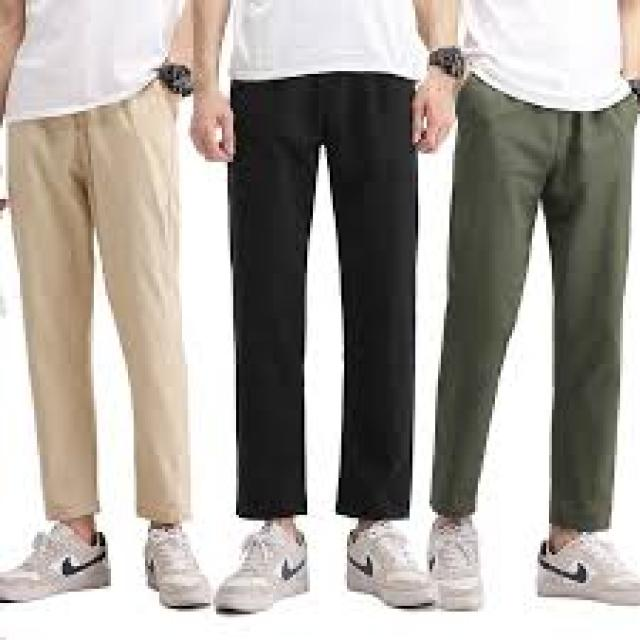pants: (431, 68, 640, 534), (0, 58, 198, 531), (220, 68, 417, 524)
